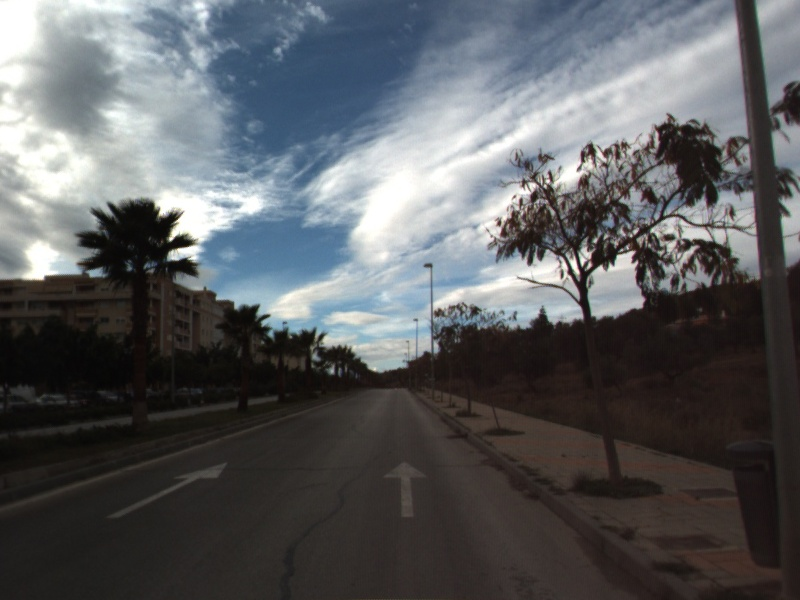STRAIGHT: (104, 460, 230, 520), (381, 459, 429, 519)
